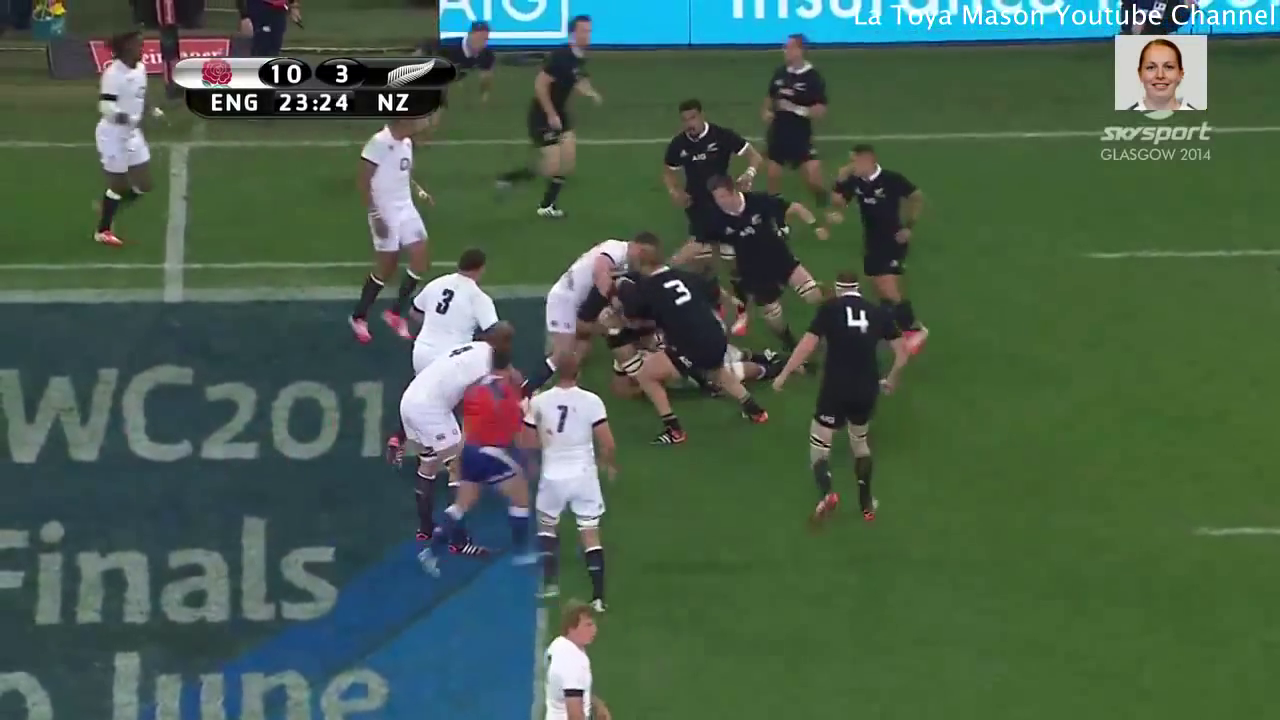player: (759, 259, 911, 540), (389, 304, 528, 548), (510, 340, 627, 622), (612, 243, 772, 447), (407, 342, 539, 575), (826, 132, 944, 388), (691, 180, 841, 360), (483, 12, 605, 224), (744, 25, 853, 246), (353, 100, 441, 350), (373, 244, 509, 390), (531, 216, 657, 368), (83, 28, 163, 259), (661, 100, 771, 225), (523, 589, 625, 720), (425, 16, 506, 85)
